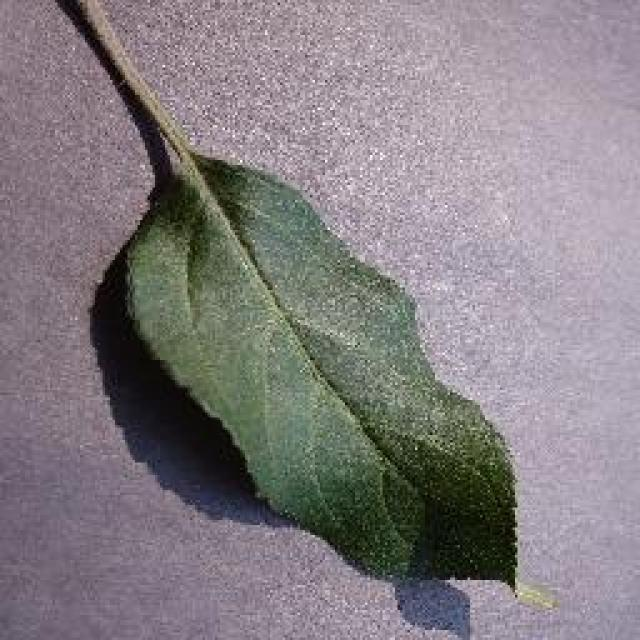apple healthy: (18, 0, 548, 605)
